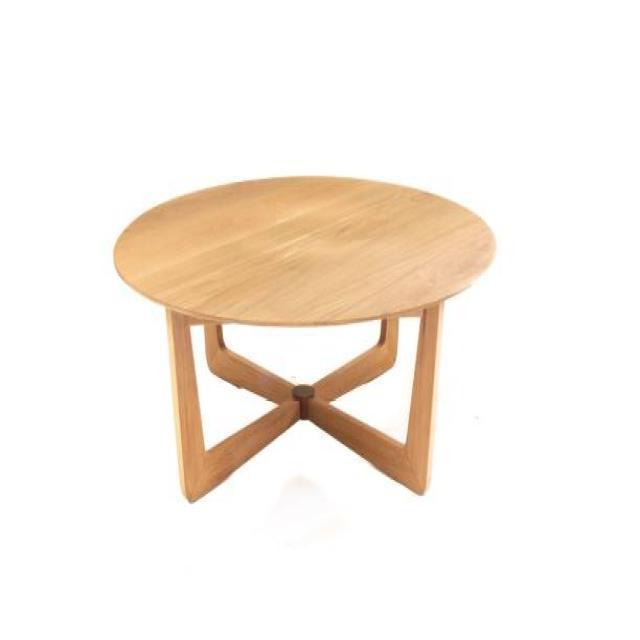table: (112, 172, 496, 503)
